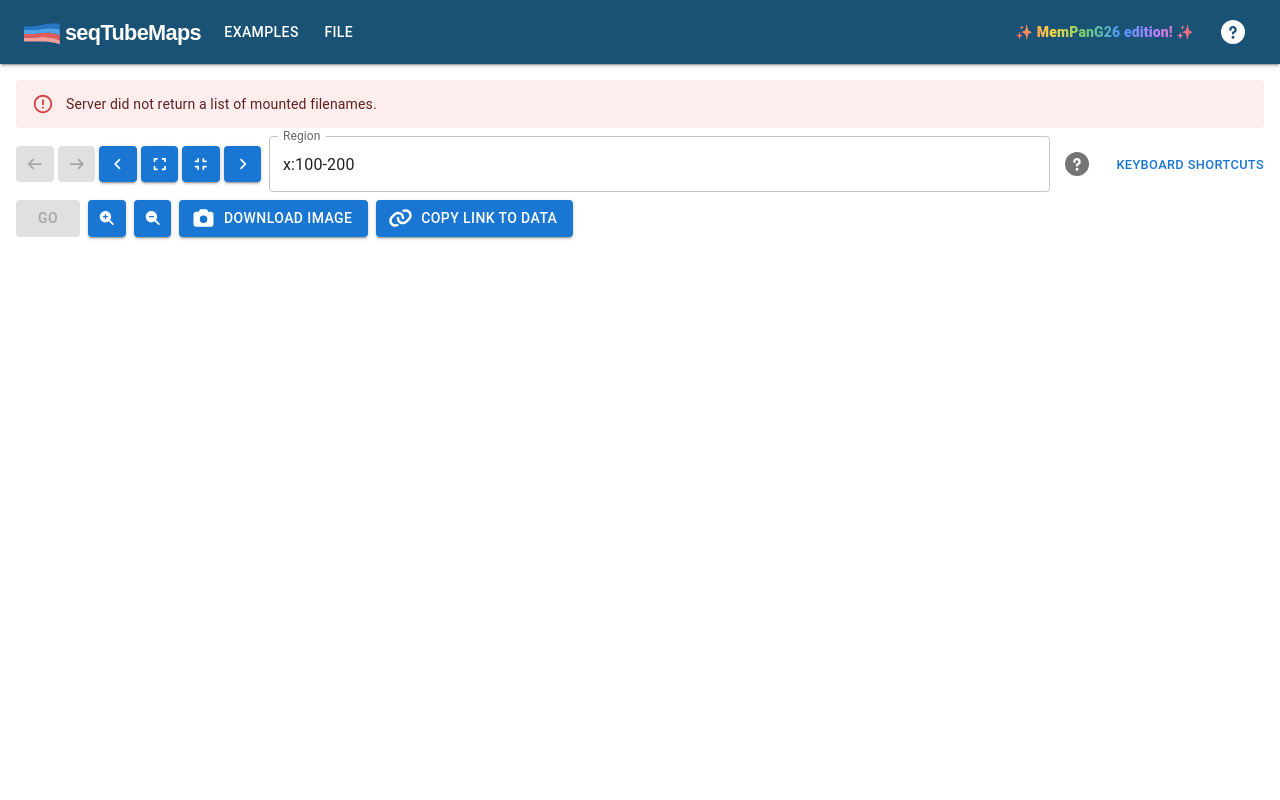
Test: groups the datasets menu by the backend that reads each example
What coordinates should you click on to do the following:
click the button with test id "examplesMenuButton"
I would click on:
 (262, 32)
Its box is [216,14,307,50].
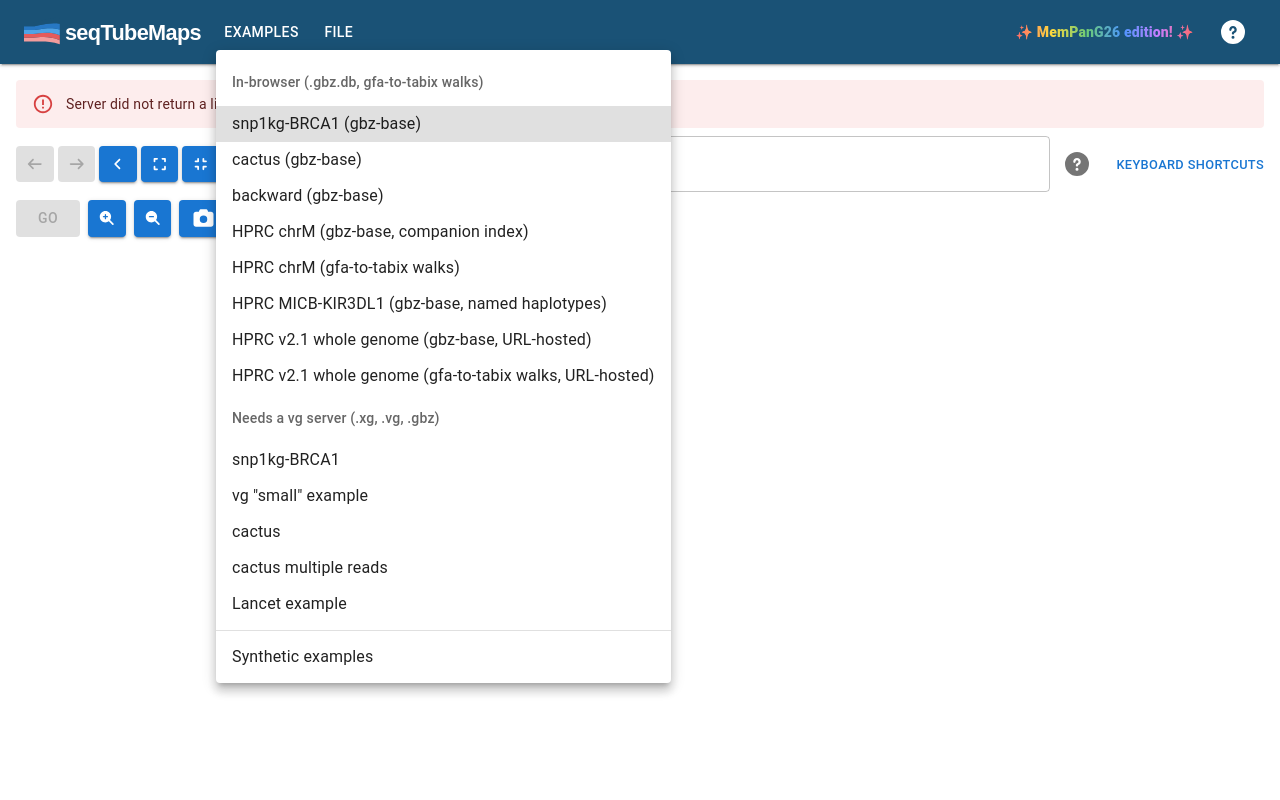
Now the list item "In-browser (.gbz.db, gfa-to-tabix walks)" is shown, box [216,58,670,106]
Now the list item "Needs a vg server (.xg, .vg, .gbz)" is shown, box [216,394,670,442]
